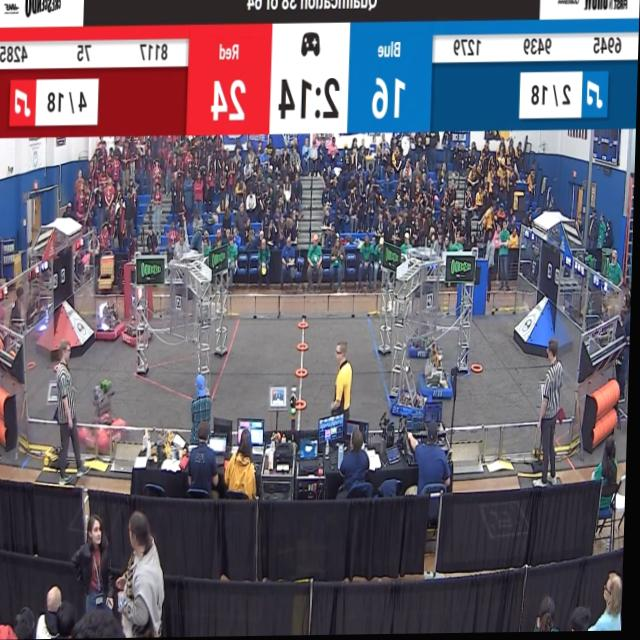Robot: (92, 369, 132, 443), (388, 365, 429, 423), (422, 337, 457, 404), (122, 285, 156, 350), (97, 294, 125, 345), (409, 324, 433, 363)
